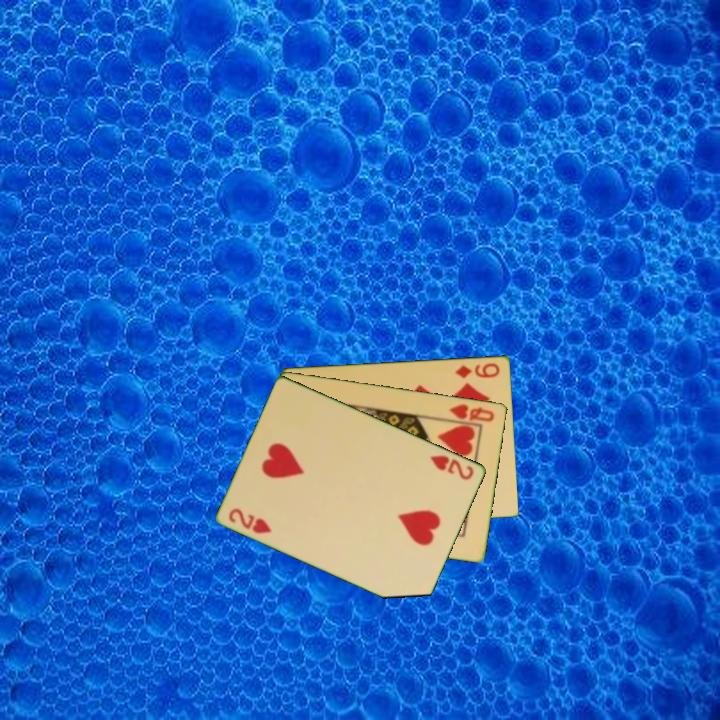2h: (427, 451, 477, 483), (225, 504, 275, 536)
9d: (452, 359, 503, 381)
Qh: (446, 400, 497, 425)
